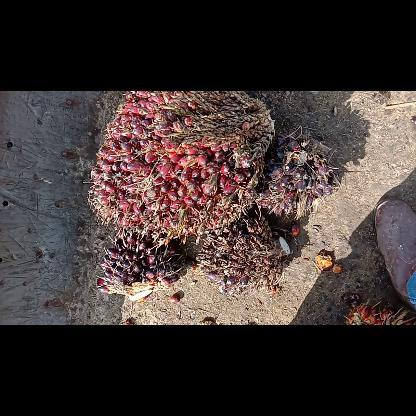TBS abnormal: (198, 218, 286, 292), (262, 131, 332, 219), (103, 238, 181, 297)
TBS masak: (90, 91, 274, 231)
